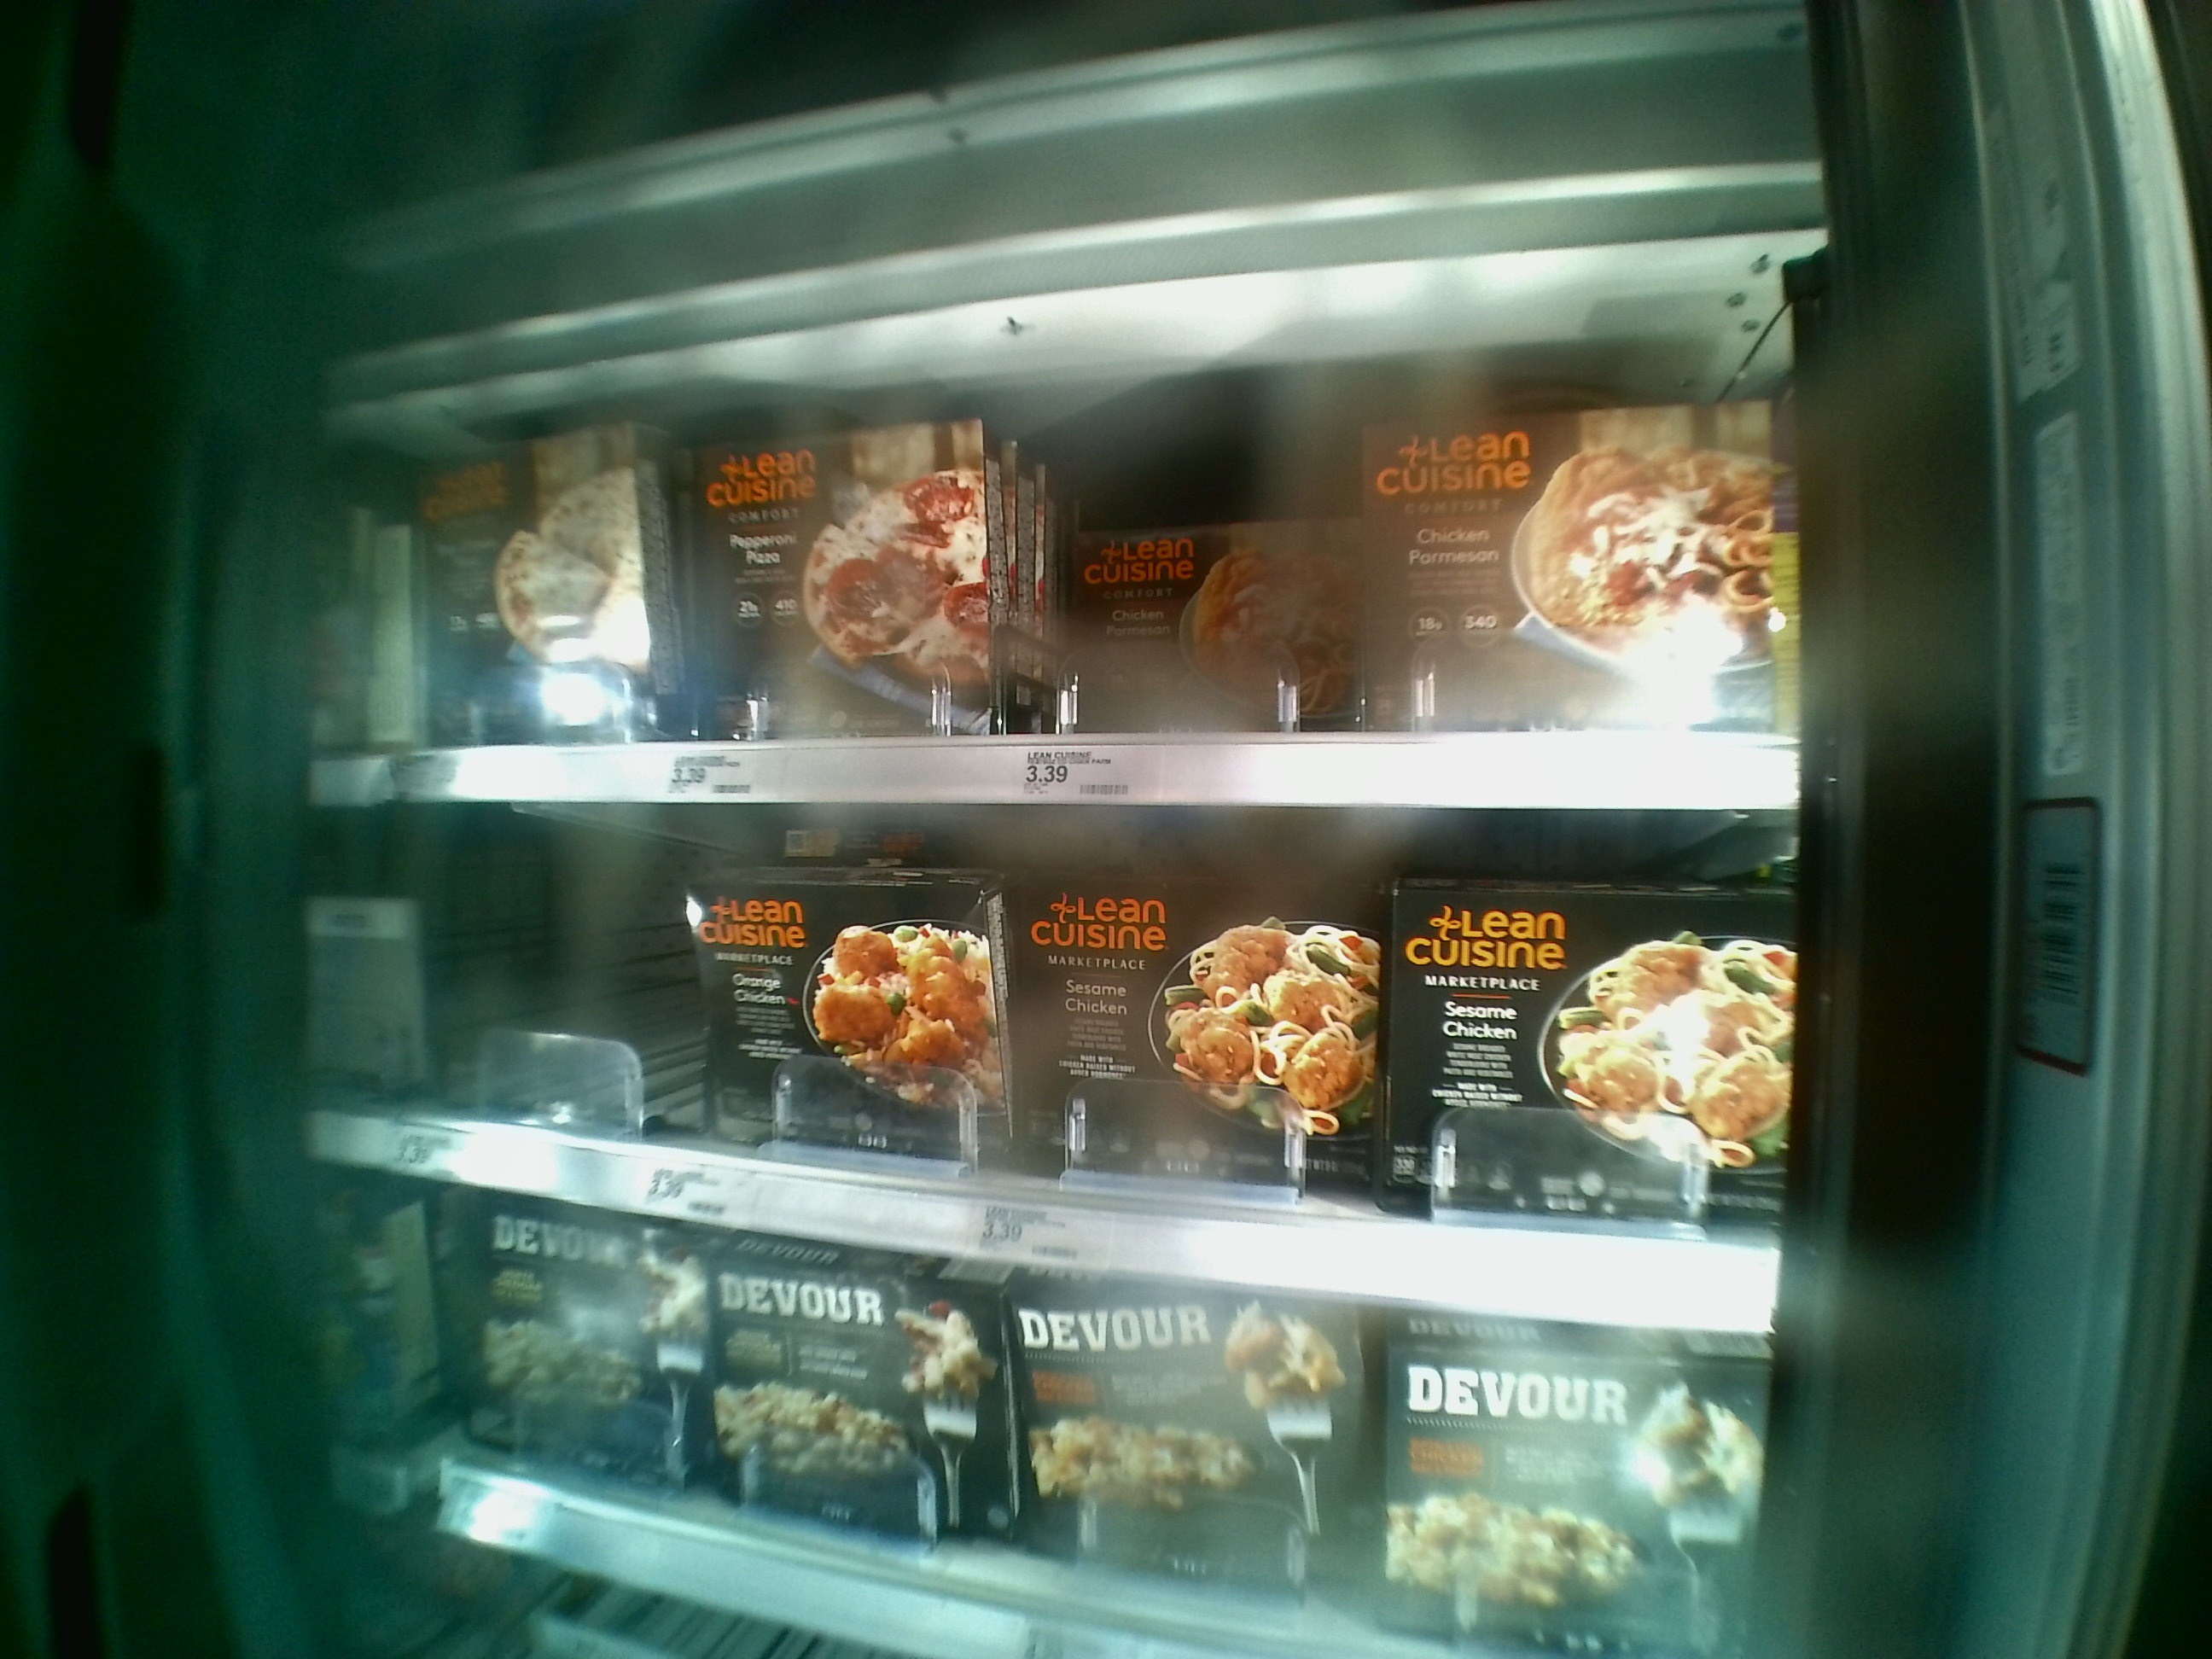shelf: (319, 803, 1780, 1344), (286, 331, 1794, 812)
